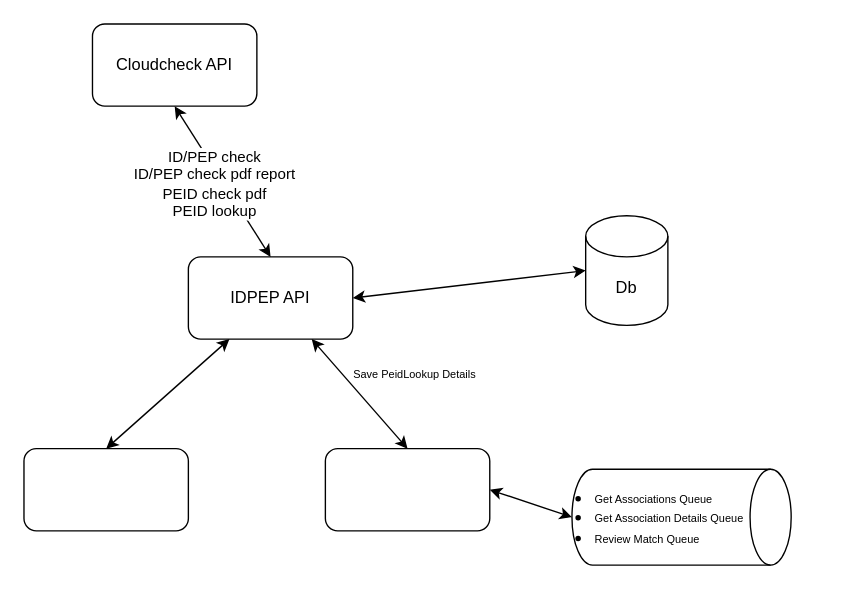
This 849x596 diagram has some shape labels left out. Each missing label, with the centre of its shape:
Onboarding Main Worker: (105,489)
Ongoing monitoring Worker: (407,489)
